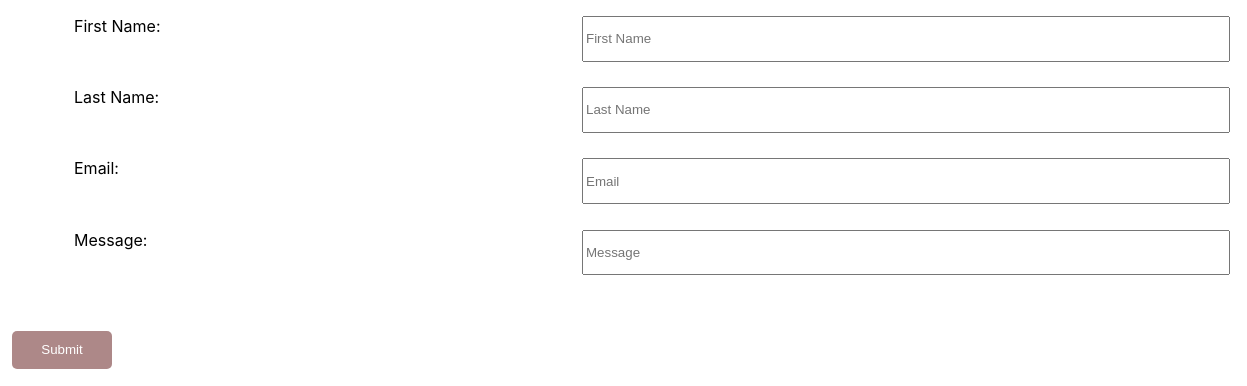
Form Component › disables the submit button when form is invalid
The width and height of the screenshot is (1247, 386).
Expected: the button "Submit" is disabled, [12, 331, 112, 369]
Type "John" into the field labelled "First Name:" at [906, 39], box [582, 16, 1230, 62]
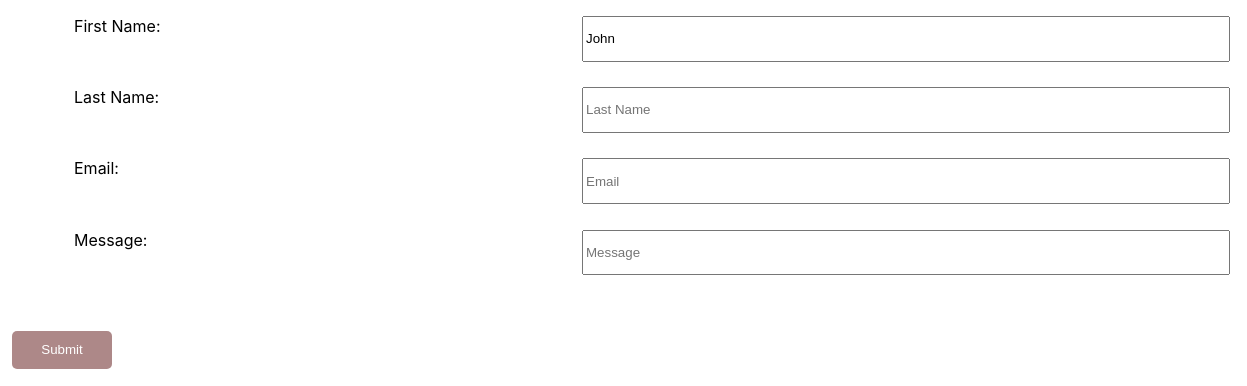
Type "Doe" into the field labelled "Last Name:" at [906, 110], box [582, 87, 1230, 133]
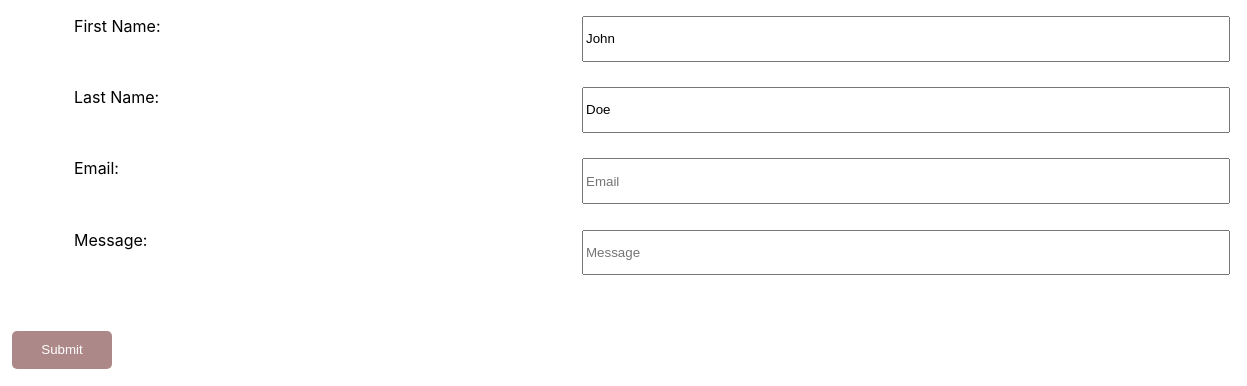
Type "john@example.com" into the field labelled "Email:" at [906, 181], box [582, 158, 1230, 204]
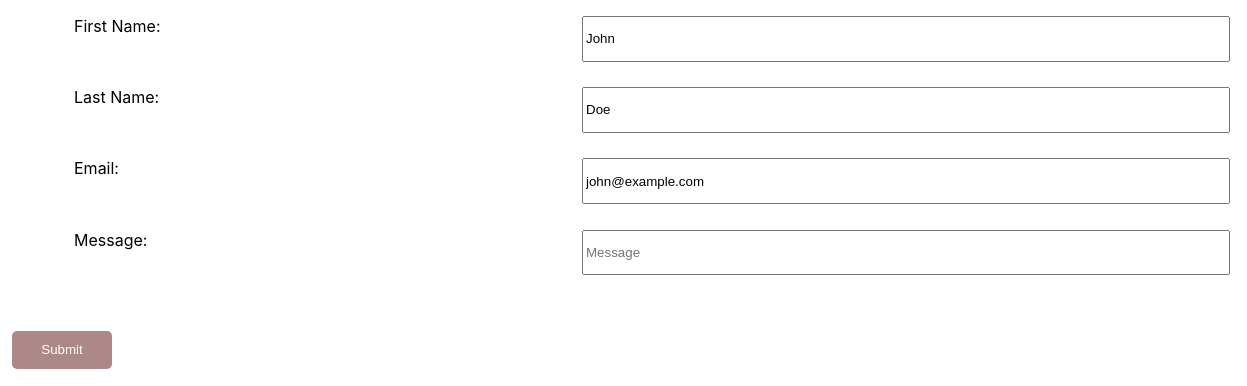
Type "Hello" into the field labelled "Message:" at [906, 252], box [582, 230, 1230, 275]
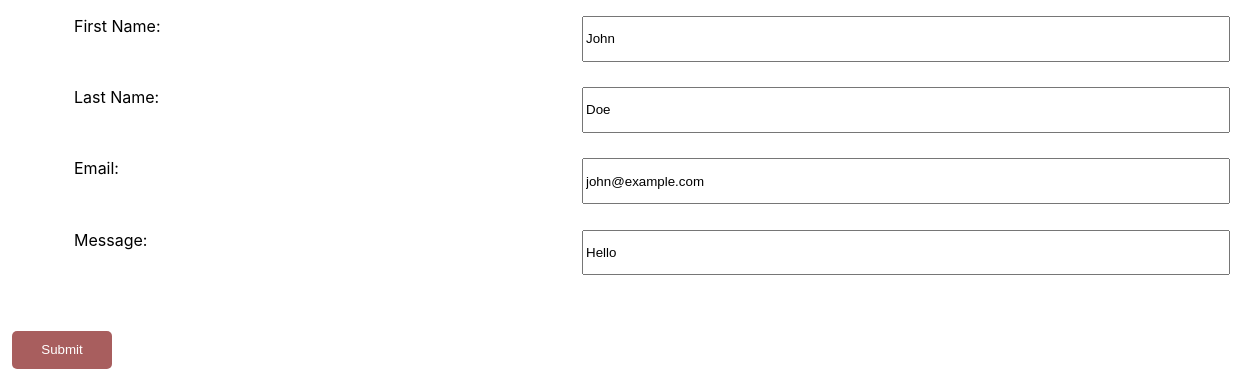
Expected: the button "Submit" is enabled, [12, 331, 112, 369]
